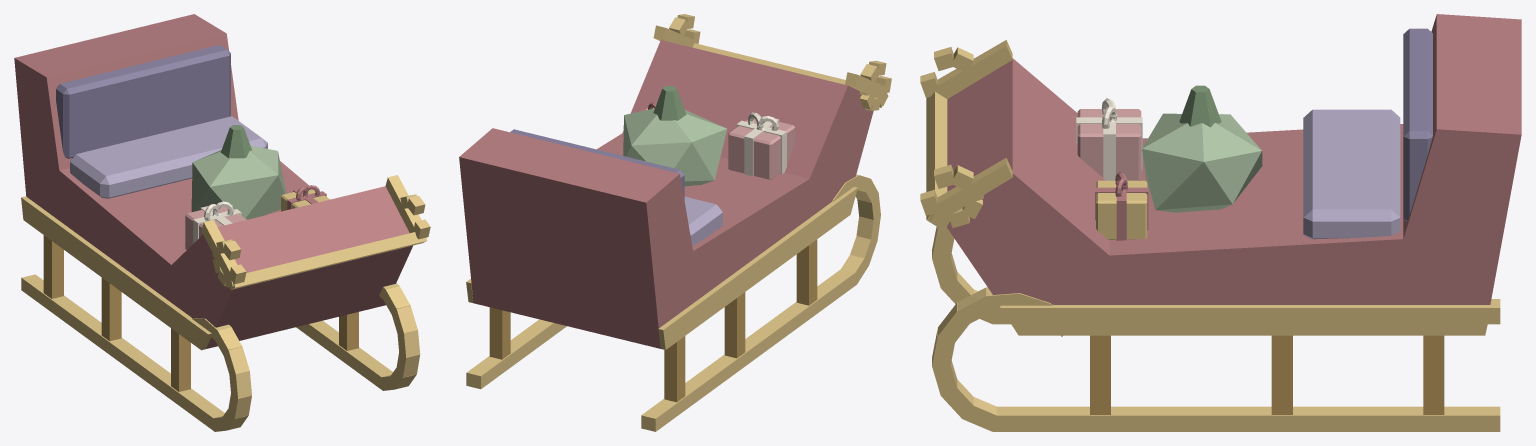
File: sb_sleigh.glb
The picture shows the model from 3 angles, left to right: view 1: azimuth 30°, elevation 25°; view 2: azimuth 150°, elevation 25°; view 3: azimuth 270°, elevation 25°; orthographic projection. The views are drawn at different scales.
Visible parts, largest first — view 1: sleigh; view 2: sleigh; view 3: sleigh.
Boxes of the visible parts, x1,y1,x2,y2 form: sleigh: (14,14,430,431); sleigh: (459,14,891,431); sleigh: (920,14,1521,431).
Bounding box in the file's own units: 0.97 × 1.1 × 1.98.
